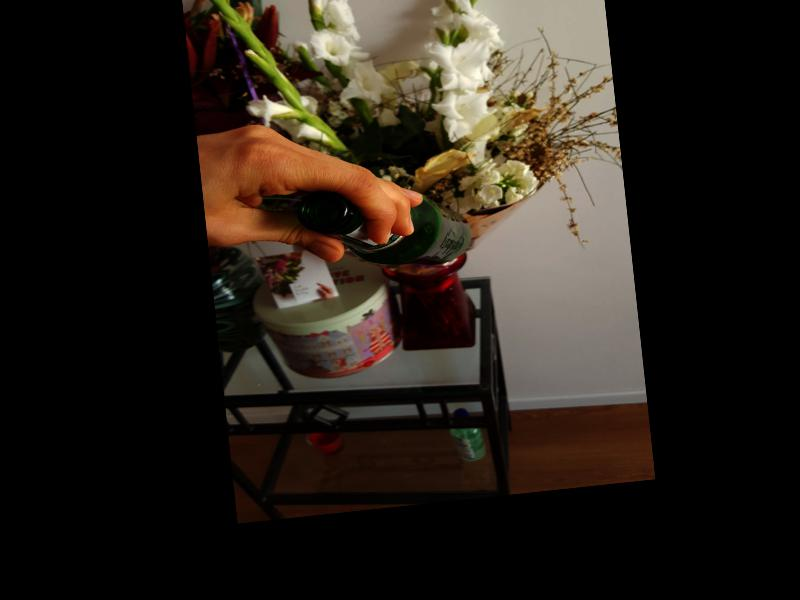Beer: (296, 177, 474, 279)
